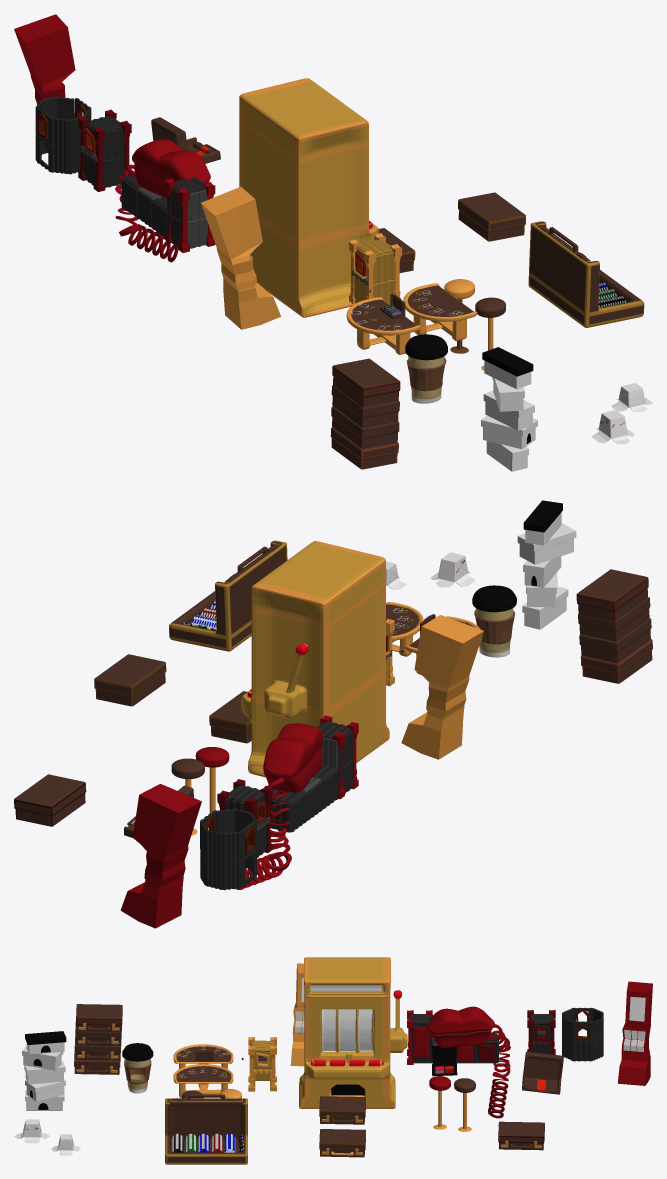
The model's file is NRY_Export_Only.fbx.
3 views of the same model, one above another, from view 1: azimuth 30°, elevation 25°; view 2: azimuth 150°, elevation 25°; view 3: azimuth 270°, elevation 25° (orthographic). The views are drawn at different scales.
Visible parts, largest first — view 1: Cube.101, Cube.097, Wall.010, Wall.042, Cube.091, Cylinder.031, Cube.059, Cube.058, Cylinder, Cylinder.013, Cube.029, Cube.067 (+12 smaller); view 2: Cube.101, Wall.042, Wall.010, Cube.097, Cube.091, Cube.059, Cube.096, Cube.058, Cylinder, Plane, Cube.041, Cube.067 (+11 smaller); view 3: Cube.101, Cube.097, Wall.042, Cube.091, Cube.031, Cylinder.031, Cube.095, Cube.059, Cube.096, Cube.058, Cylinder, Plane (+20 smaller).
Boxes of the visible parts, x1,y1,x2,y2 form: Cube.101: (239,78,378,317); Cube.097: (528,221,644,327); Wall.010: (201,186,280,329); Wall.042: (14,14,75,117); Cube.091: (132,139,210,199); Cylinder.031: (403,283,477,341); Cube.059: (458,192,525,241); Cube.058: (332,358,400,407); Cylinder: (405,334,447,403); Cylinder.013: (346,297,420,354); Cube.029: (482,347,533,389); Cube.067: (330,427,398,469); Cube.101: (241,541,389,777); Wall.042: (120,784,201,928); Wall.010: (401,615,483,759); Cube.097: (169,540,287,651); Cube.091: (263,723,322,792); Cube.059: (94,654,166,706); Cube.096: (14,774,86,826); Cube.058: (576,569,648,621); Cylinder: (472,585,516,657); Plane: (235,777,291,889); Cube.041: (579,618,651,662); Cube.067: (580,639,652,683); Cube.101: (299,957,407,1108); Cube.097: (165,1094,247,1164); Wall.042: (617,981,652,1085); Cube.091: (426,1006,494,1048); Cube.031: (522,1051,563,1094); Cylinder.031: (173,1064,233,1097); Cube.095: (319,1096,365,1124); Cube.059: (319,1129,365,1157); Cube.096: (498,1121,544,1150); Cube.058: (76,1004,122,1032); Cylinder: (122,1043,153,1093); Plane: (488,1024,510,1118).
Size of the model in its own units: 136416 by 83692 by 302968.
